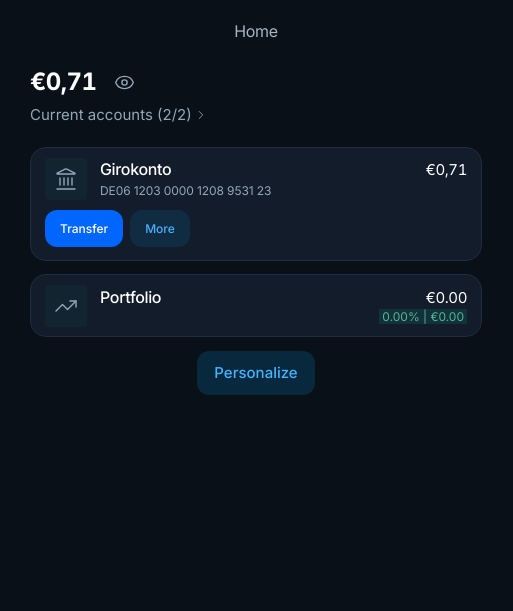
Transfer navigation › rejects malformed recipient details and discards unconfirmed transfers
Click the button "Transfer" at (84, 228), box x1=45 y1=210 x2=123 y2=247
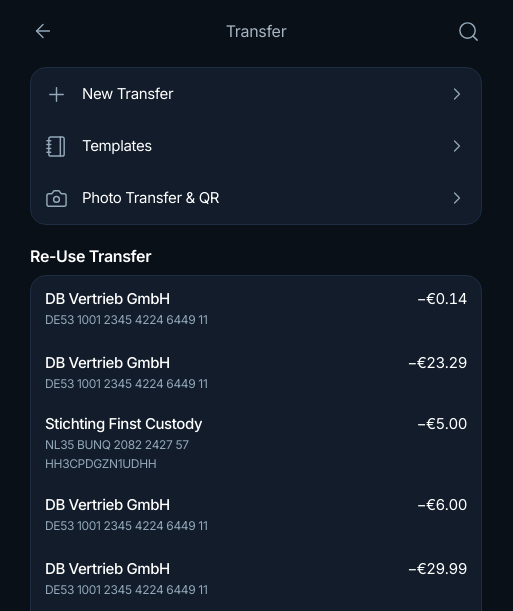
Click the button "New Transfer" at (128, 93), box x1=31 y1=68 x2=481 y2=120
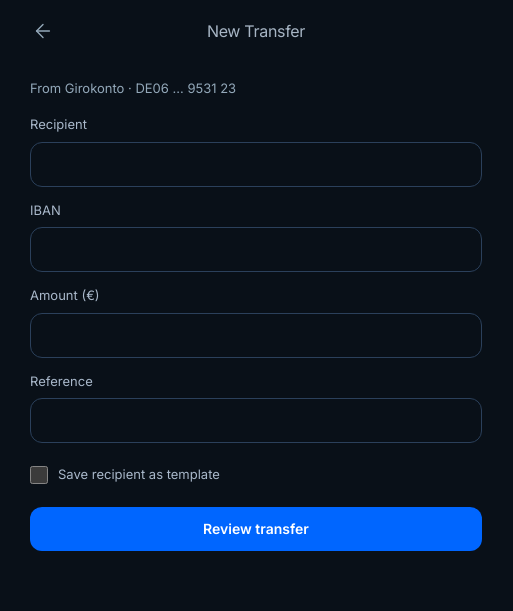
Type "Test recipient" into the field labelled "Recipient" at (256, 164), box x1=30 y1=142 x2=482 y2=186
Type "incorrect" into the field labelled "IBAN" at (256, 250), box x1=30 y1=227 x2=482 y2=272
Type "10" into the number field labelled "Amount (€)" at (256, 335), box x1=30 y1=312 x2=482 y2=358
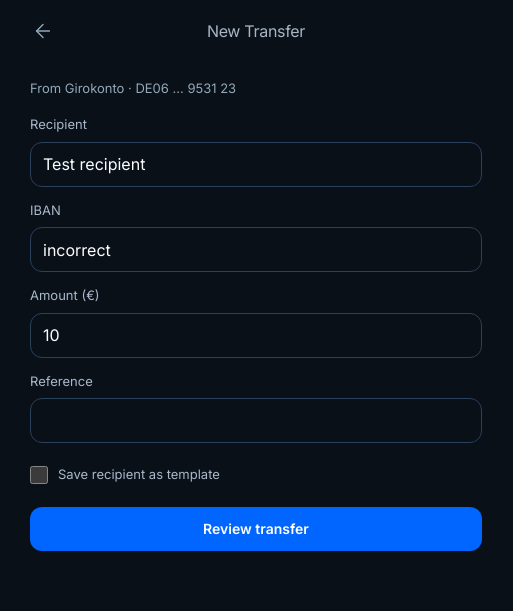
Click the button "Review transfer" at (256, 528), box x1=30 y1=506 x2=482 y2=550
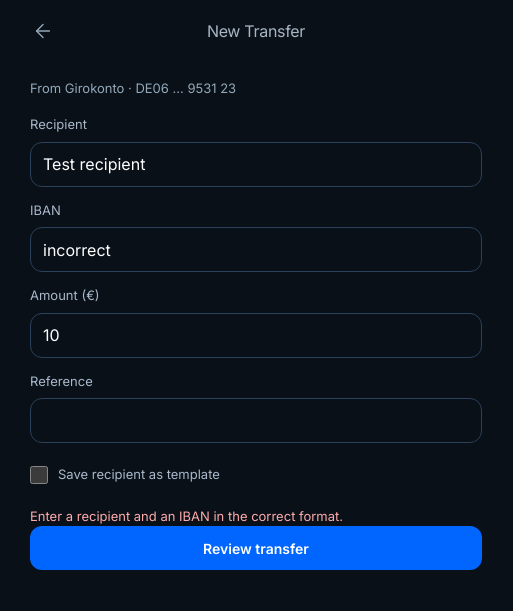
Now the message shows "IBAN", box x1=30 y1=508 x2=343 y2=524
Click the button named "Back" at (43, 31), box x1=23 y1=11 x2=63 y2=51
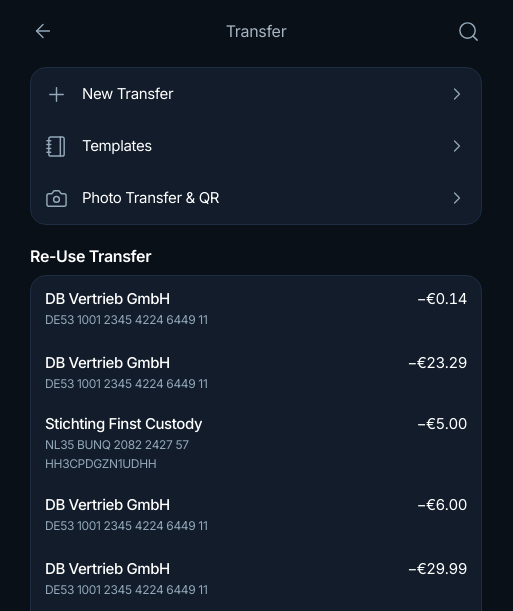
Click the button named "Back" at (43, 31), box x1=23 y1=11 x2=63 y2=51
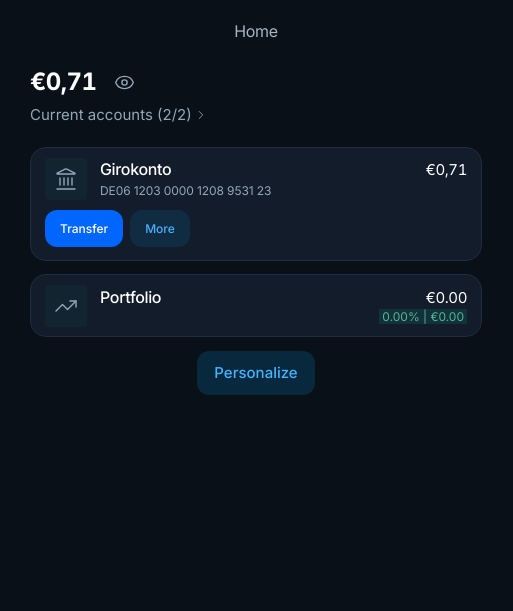
Now the text with test id "home-total" reads "€0,71", box x1=30 y1=67 x2=96 y2=96
